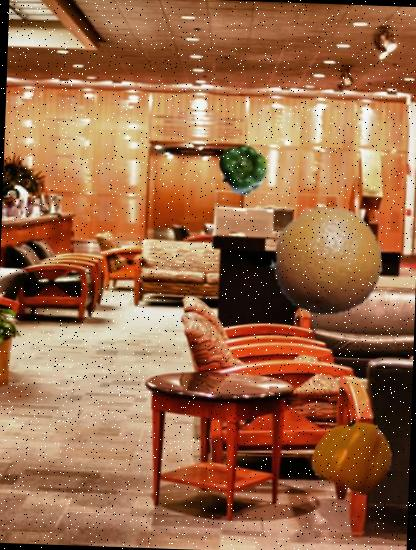Orange: (268, 203, 384, 319)
Pepper: (312, 418, 395, 500), (216, 142, 270, 196)
